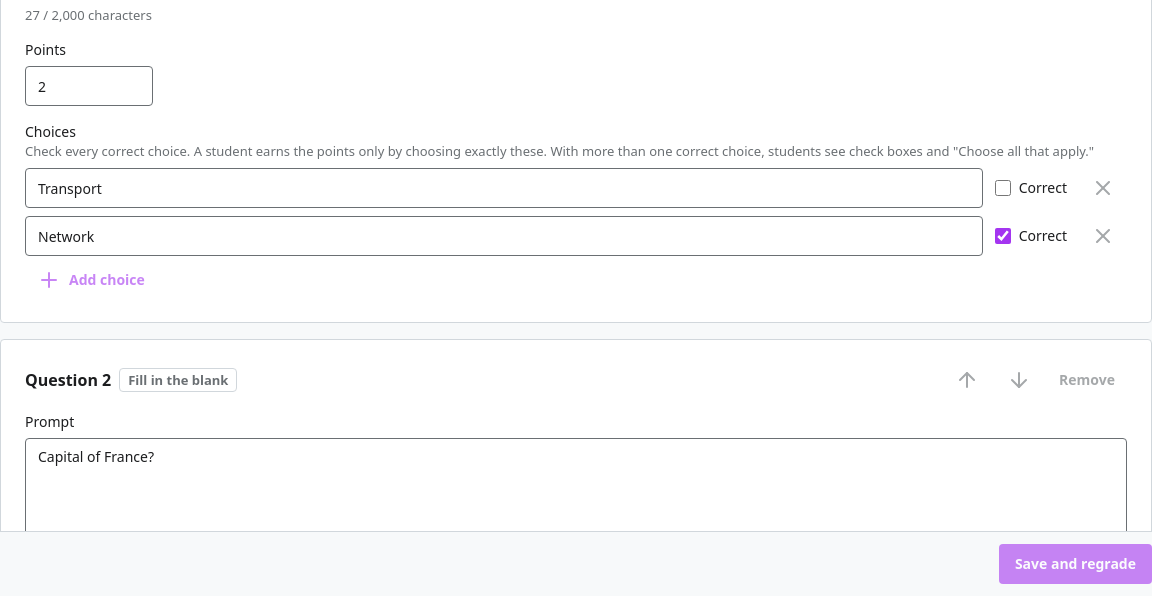
Test: the confirm dialog with no submitted attempt says nothing is regraded; one attempt is singular
(page scrolled)
Replace the text in the field named "Choice 2" with "Net" at (504,236), box [25, 216, 983, 256]
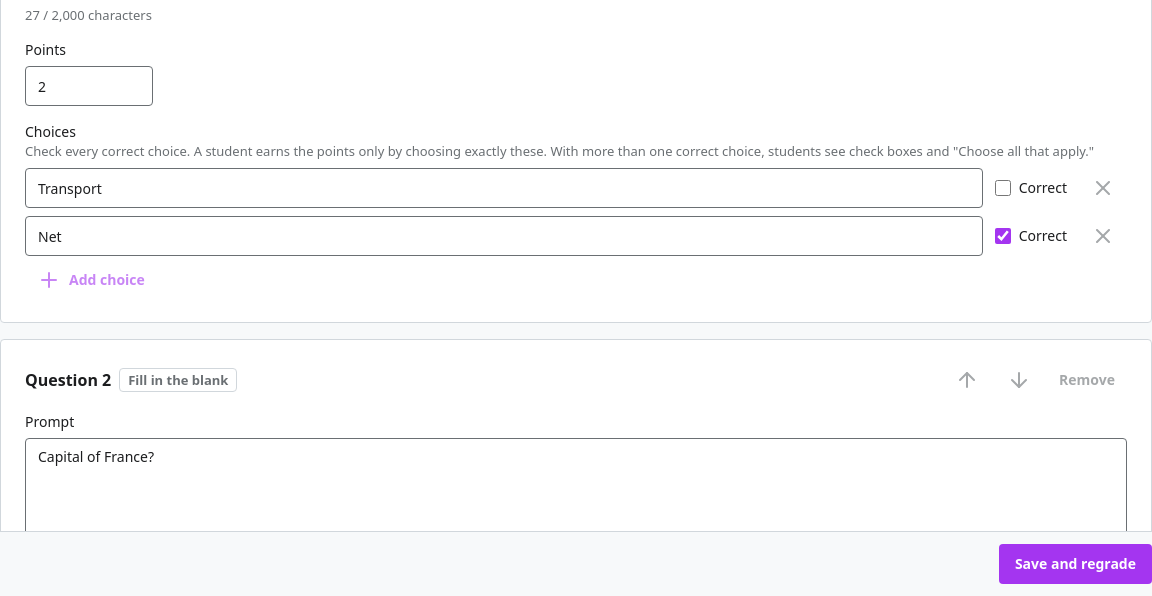
Click the button "Save and regrade" at (1075,564), box [999, 544, 1151, 584]
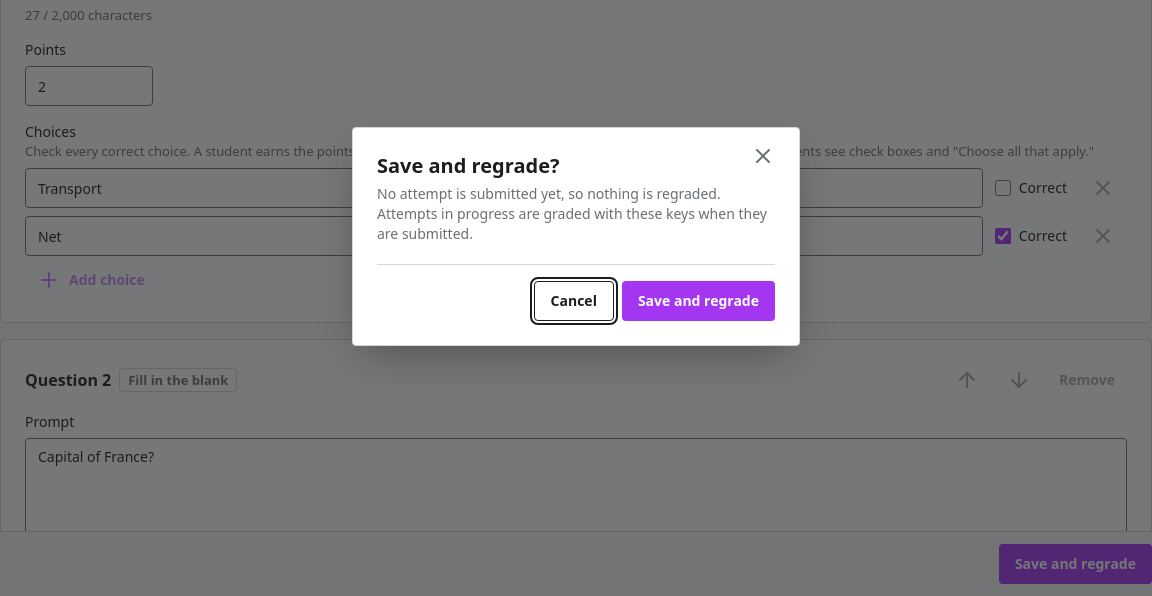
Result: the dialog "Save and regrade?" shows "No attempt is submitted yet, so nothing is regraded. Attempts in progress are graded with these keys when they are submitted." at [377, 184, 767, 242]
Click the button "Save and regrade" at (698,300), box [622, 280, 775, 320]
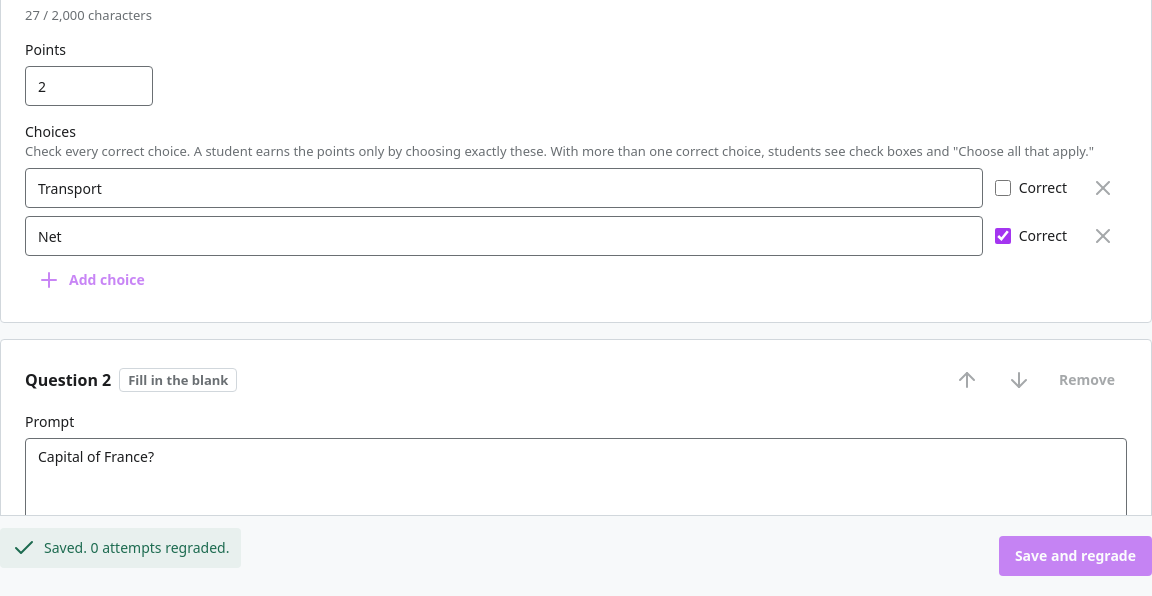
Result: the text "Saved. 0 attempts regraded." is shown at [0, 528, 241, 568]
